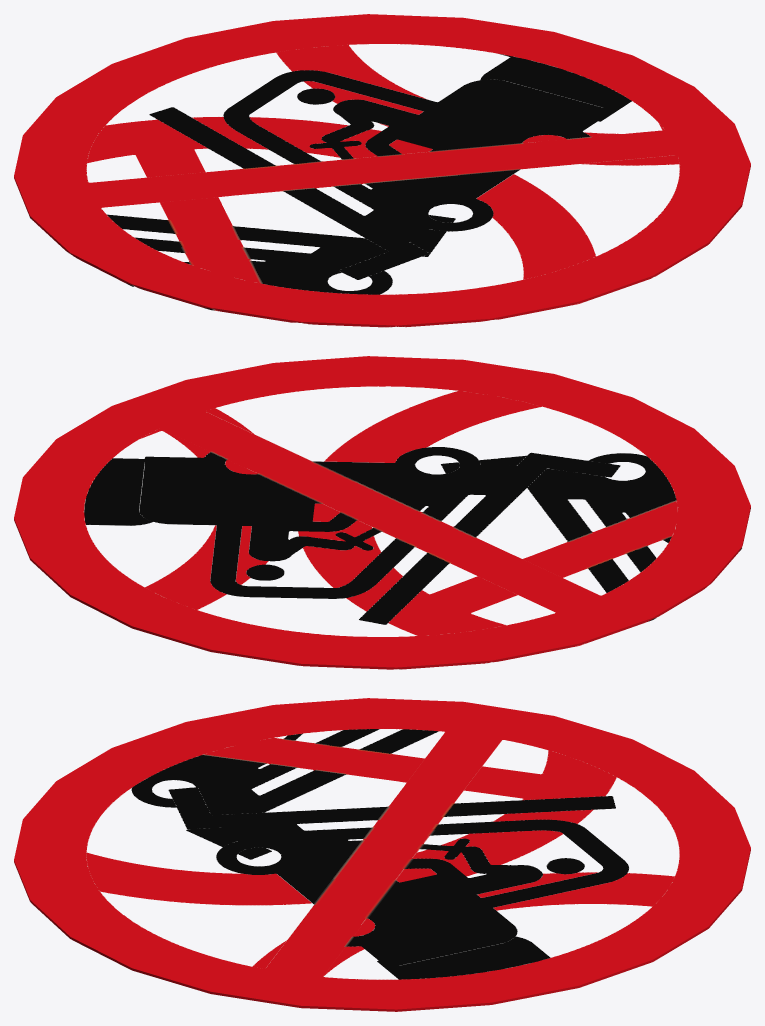
3 views of the same model, one above another, from view 1: azimuth 30°, elevation 25°; view 2: azimuth 150°, elevation 25°; view 3: azimuth 270°, elevation 25° (orthographic).
Parts seen in each view (by area): view 1: SketchUp; view 2: SketchUp; view 3: SketchUp.
Part boxes in pixels (x1,y1,x2,y2): SketchUp: [14, 14, 750, 327]; SketchUp: [14, 356, 750, 669]; SketchUp: [14, 698, 750, 1011].
Bounding box in the file's own units: 71.95 × 71.95 × 0.25.
1 material, 1 textured.
